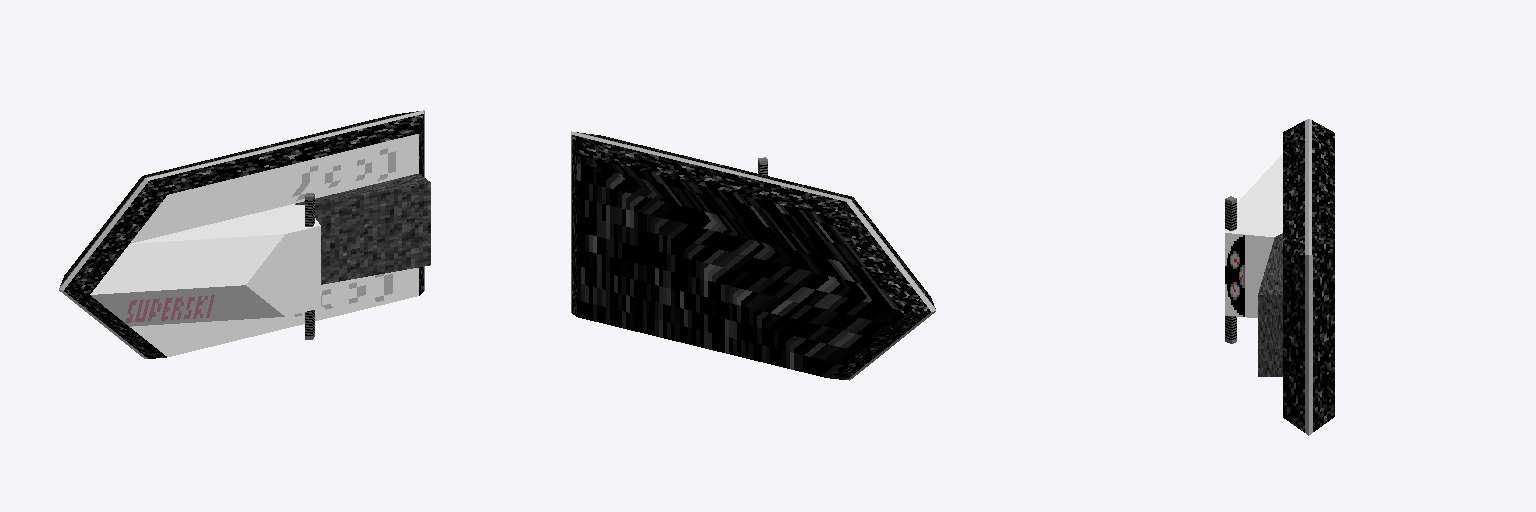
3 views of the same model, side by side, from view 1: azimuth 30°, elevation 25°; view 2: azimuth 150°, elevation 25°; view 3: azimuth 270°, elevation 25° (orthographic).
Visible parts, largest first — view 1: Box001; view 2: Box001; view 3: Box001.
Part boxes in pixels (x1,y1,x2,y2): Box001: (59,110,430,358); Box001: (571,131,935,380); Box001: (1225,119,1334,435).
Size of the model in its own units: 92.66 by 43.79 by 24.1.
1 materials, 1 textured.